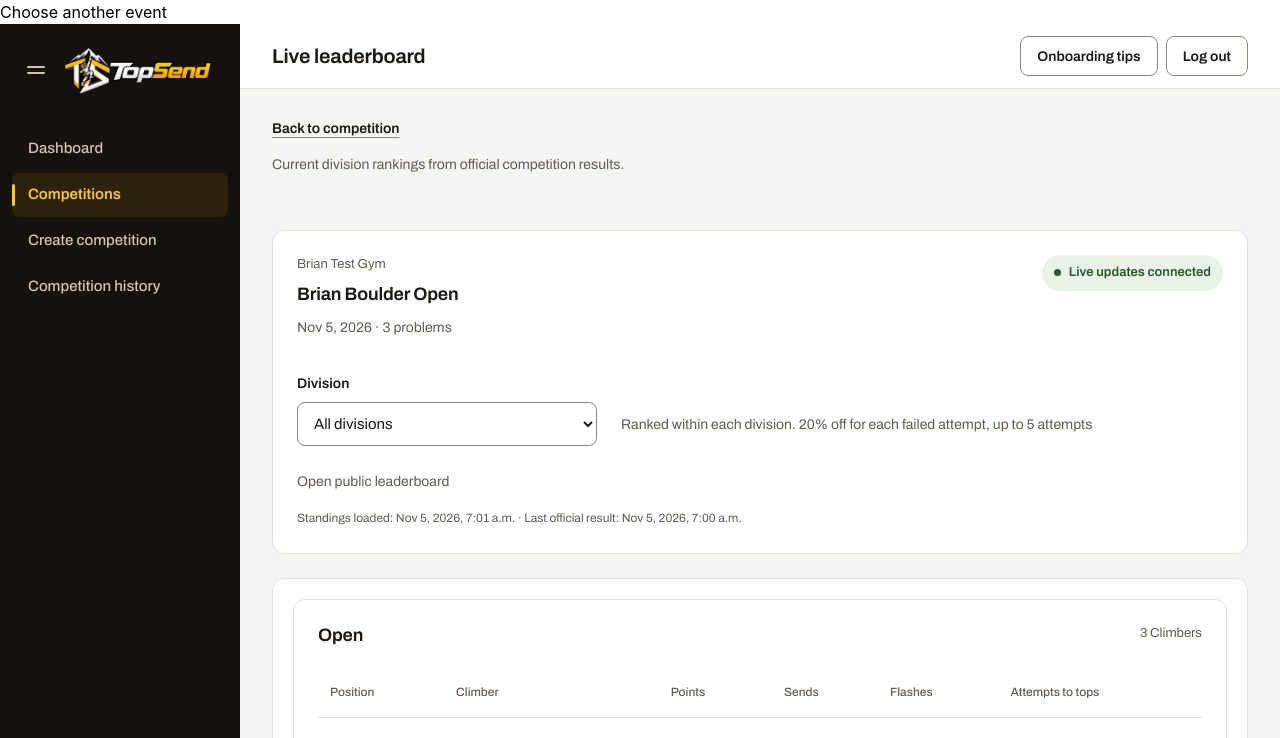
US-020 #173/#174 leaderboard page and live state › filters the server's division snapshots without reconnecting or recalculating ranks
Select "Youth" in the dropdown labelled "Division" at coordinates (447, 424), box 297,402 -> 597,446
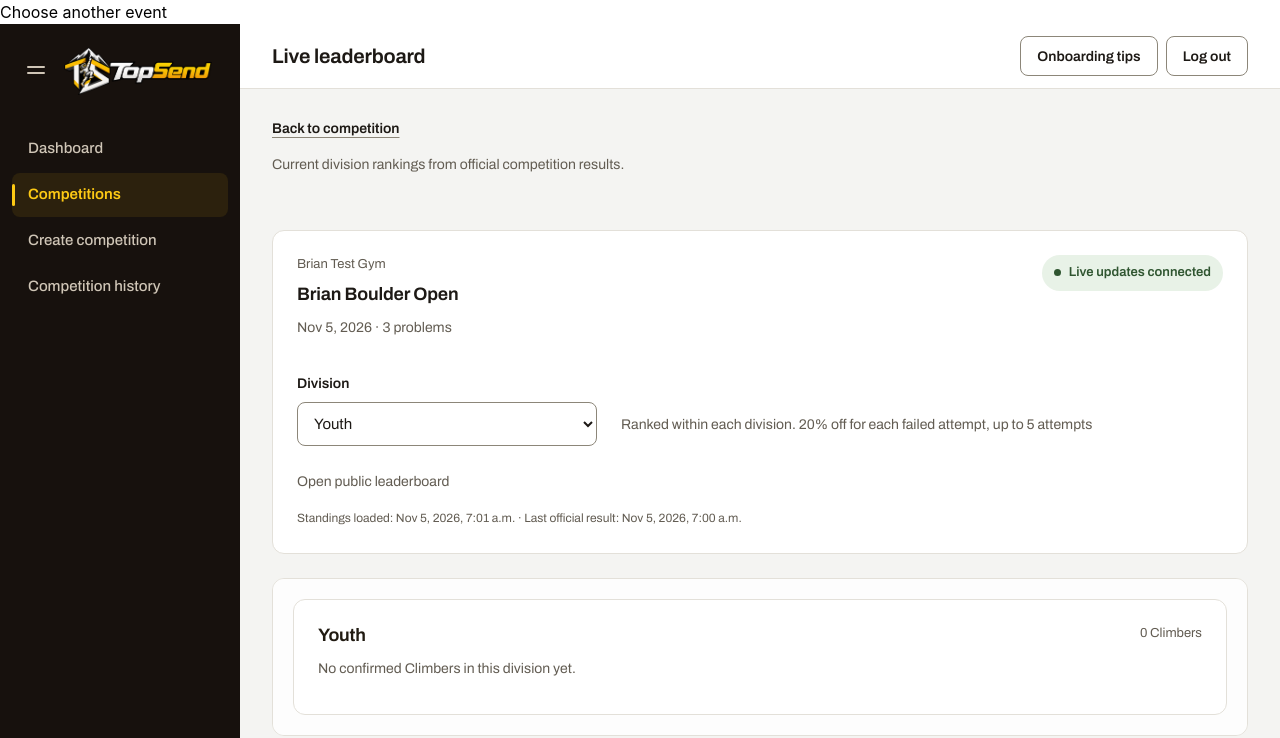
expect the heading "Youth" is shown: met, box 318,624 -> 366,647
Select "Open" in the dropdown labelled "Division" at coordinates (447, 424), box 297,402 -> 597,446
(page scrolled)
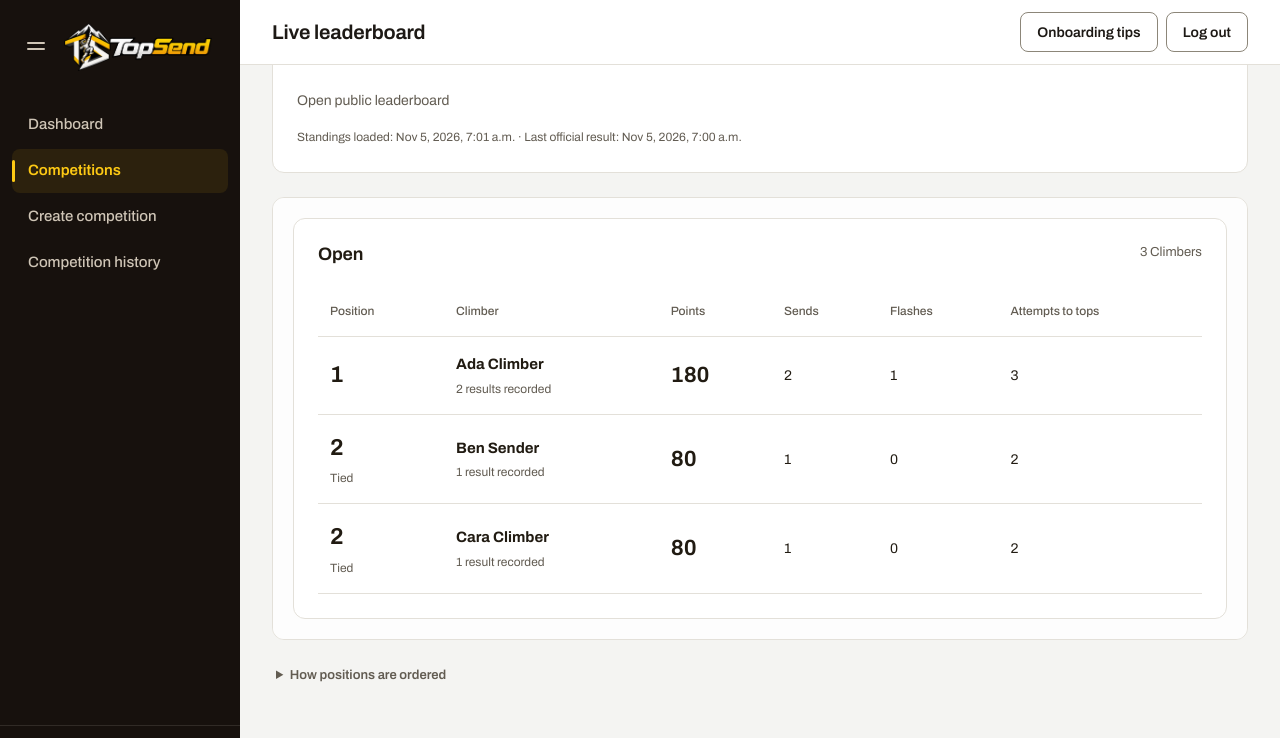
expect the table named "Open rankings" is shown: met, box 318,286 -> 1202,594
